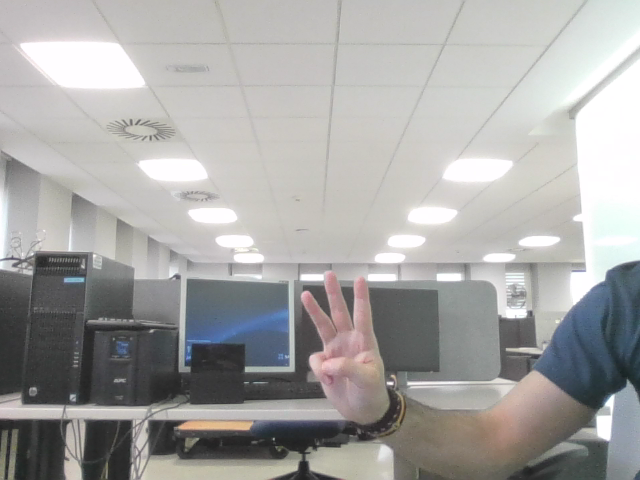3Dedos: (309, 283, 368, 391)
